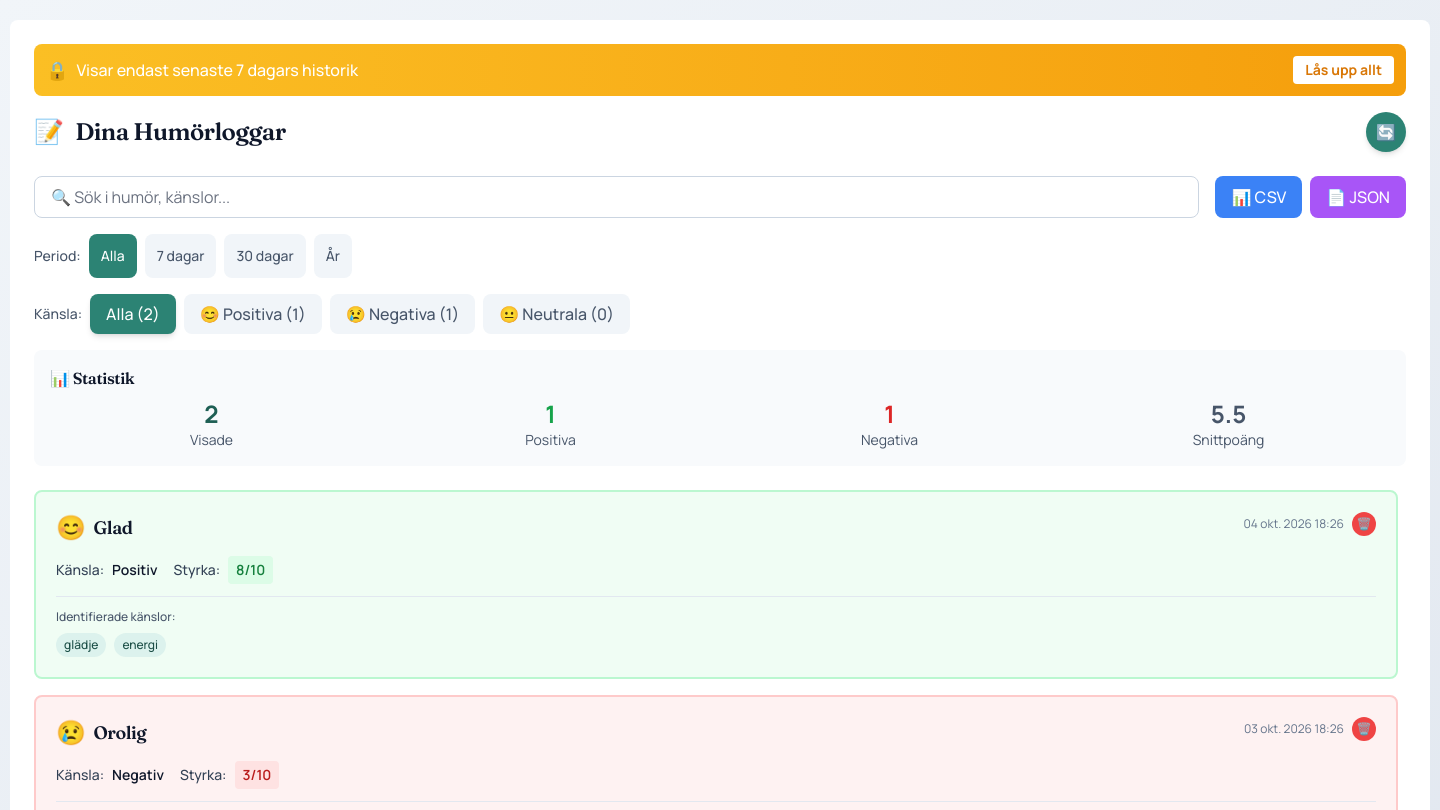
Test case: MoodList - additional branch coverage › cancel delete confirmation brings back normal state
Expected: the heading "😊 Glad" is shown, x1=56 y1=512 x2=132 y2=544
Click the button named "Radera detta humör": (1364, 524) x1=1352 y1=512 x2=1376 y2=536
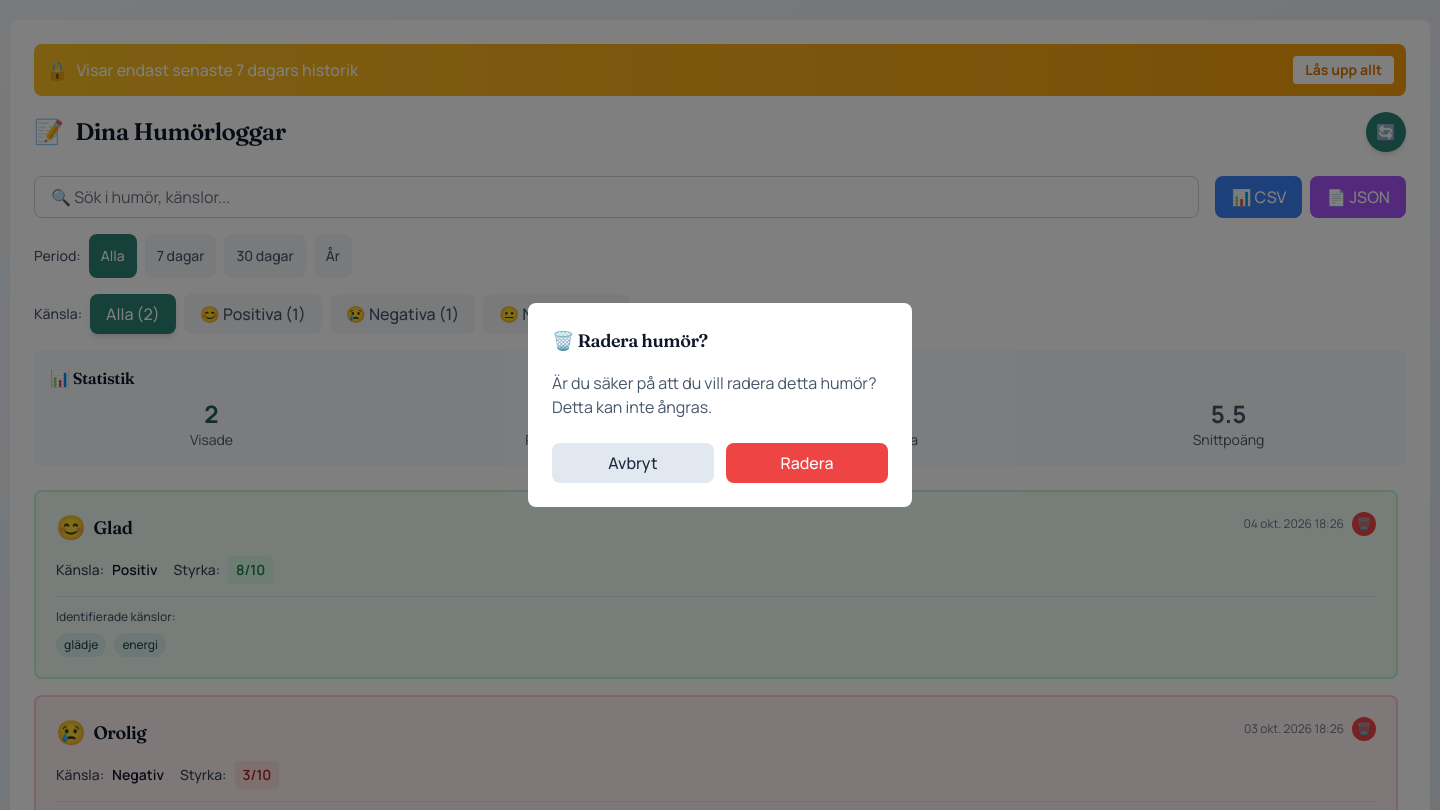
Now the text "Är du säker" is shown, box x1=552 y1=372 x2=876 y2=418
Click the button "Avbryt": (633, 463) x1=552 y1=443 x2=714 y2=483
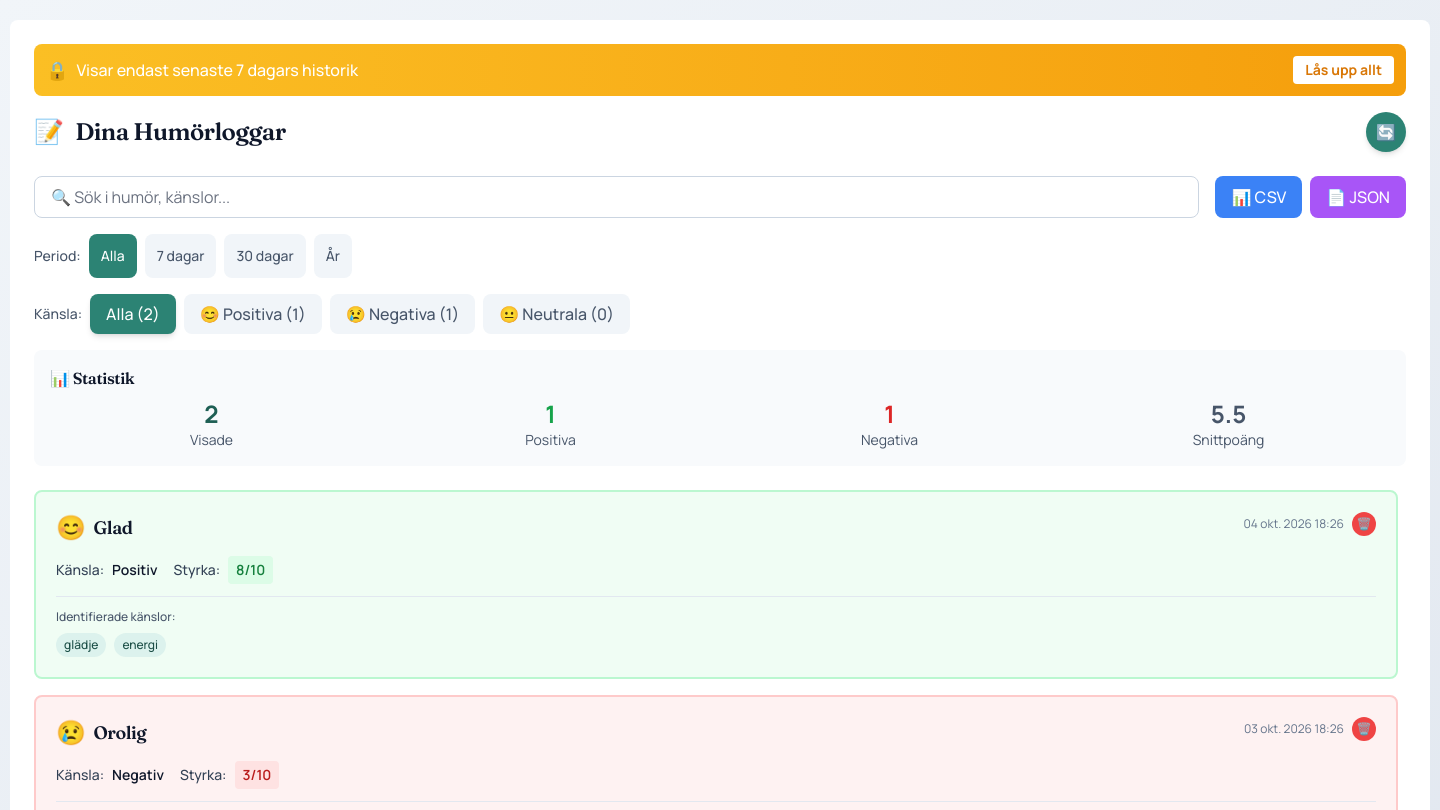
Now the text "Är du säker" is gone
